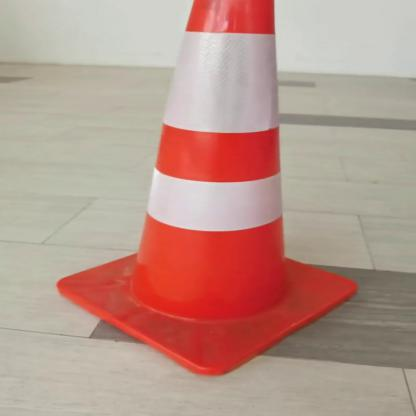cone: (39, 0, 385, 382)
